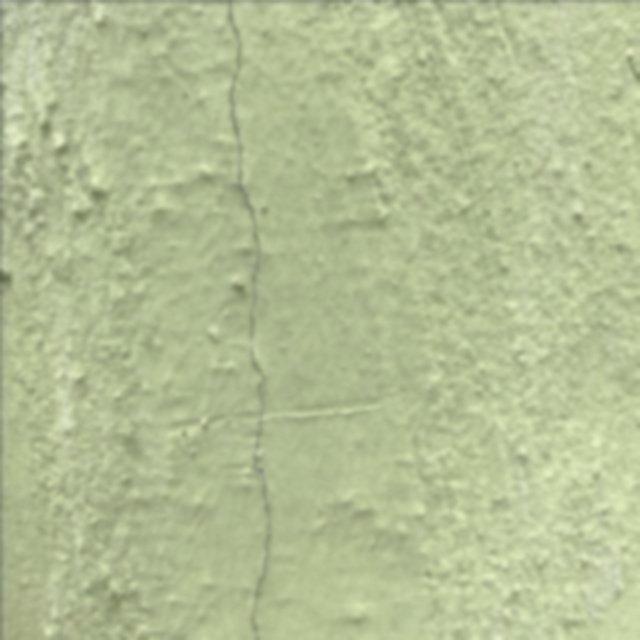SurfaceCrack: (177, 0, 303, 640)
